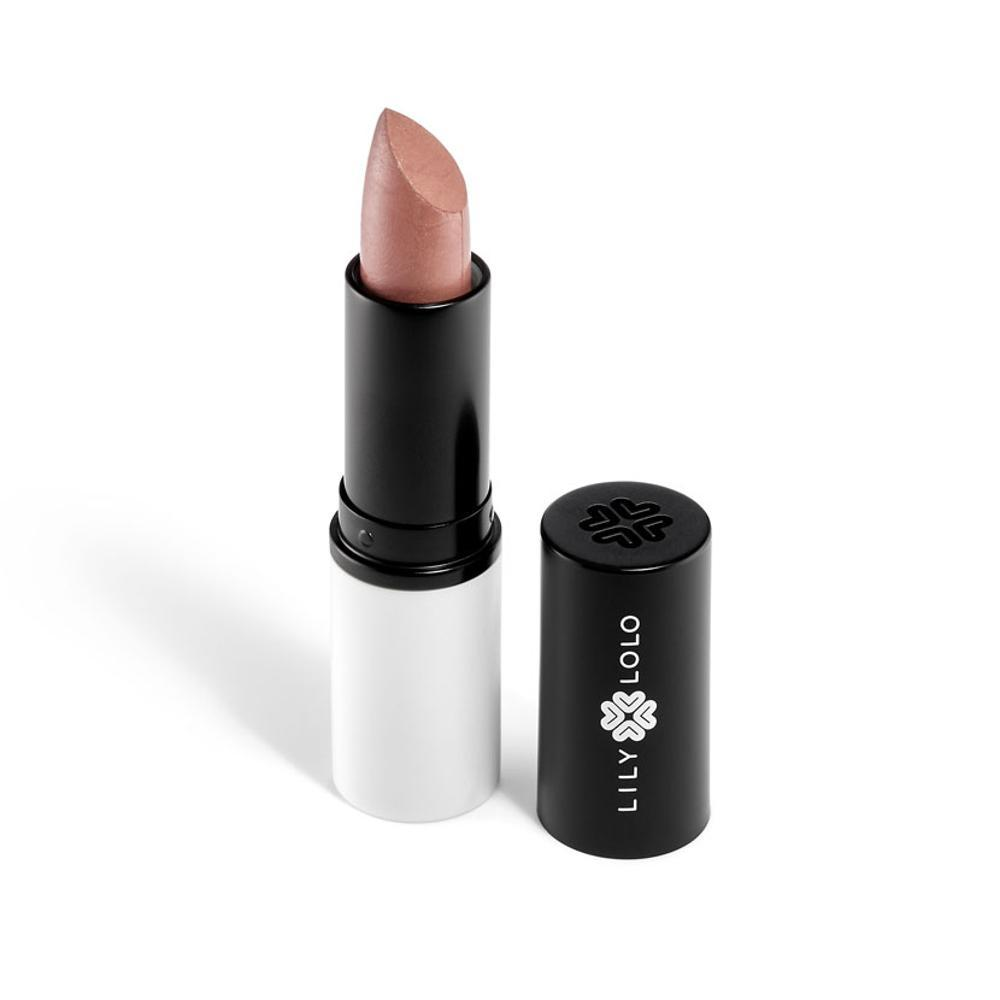lipstick: (314, 84, 516, 833)
